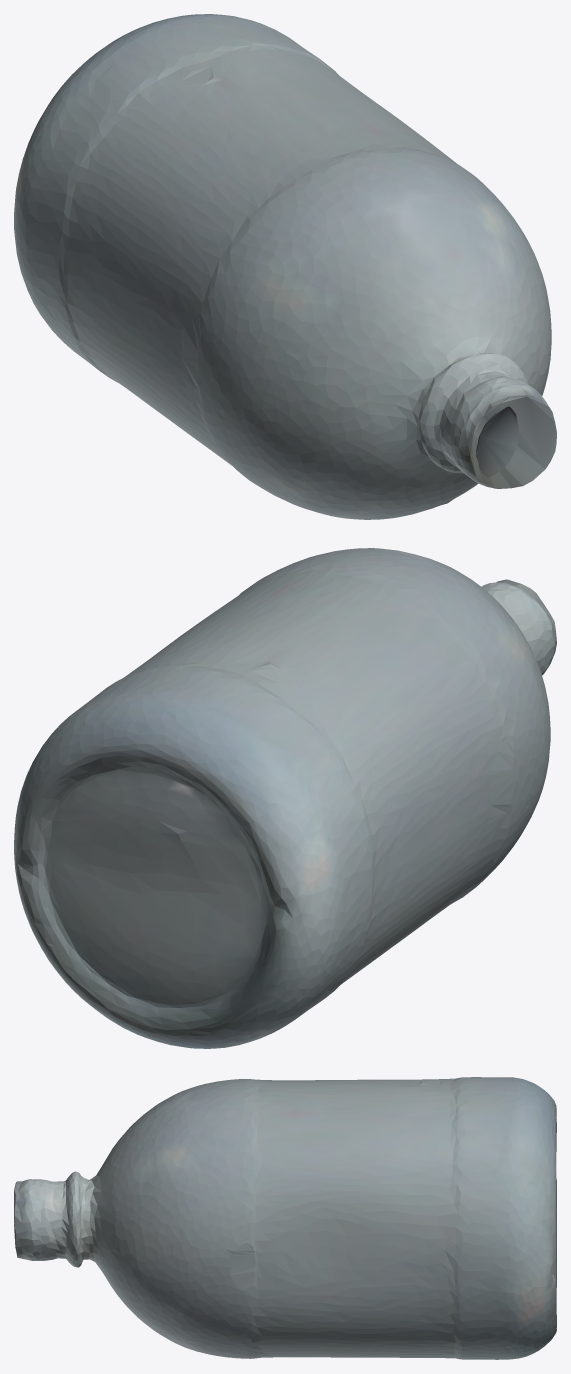
File: scan.obj
The picture shows the model from 3 angles, top to bottom: view 1: azimuth 30°, elevation 25°; view 2: azimuth 150°, elevation 25°; view 3: azimuth 270°, elevation 25°; orthographic projection. The views are drawn at different scales.
Visible parts, largest first — view 1: scan.ply; view 2: scan.ply; view 3: scan.ply.
Boxes of the visible parts, x1,y1,x2,y2 form: scan.ply: (14, 14, 556, 519); scan.ply: (14, 548, 556, 1048); scan.ply: (14, 1077, 556, 1359).
Bounding box in the file's own units: 0.0979 × 0.1013 × 0.1944.
